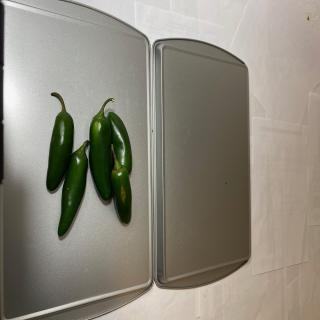Chilli: (57, 139, 90, 237)
Tomato: (46, 92, 74, 191), (89, 97, 115, 201), (110, 143, 132, 224), (107, 111, 132, 175)
